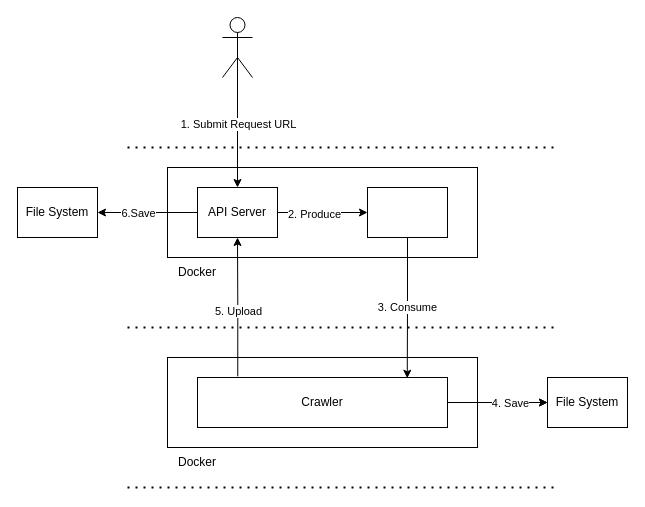
The diagram is 645 pixels wide and 507 high, and some of its shapes have lost their labels. Each missing label, with the centre of its shape:
Kafka: the point at 407,212
User: the point at 237,47
